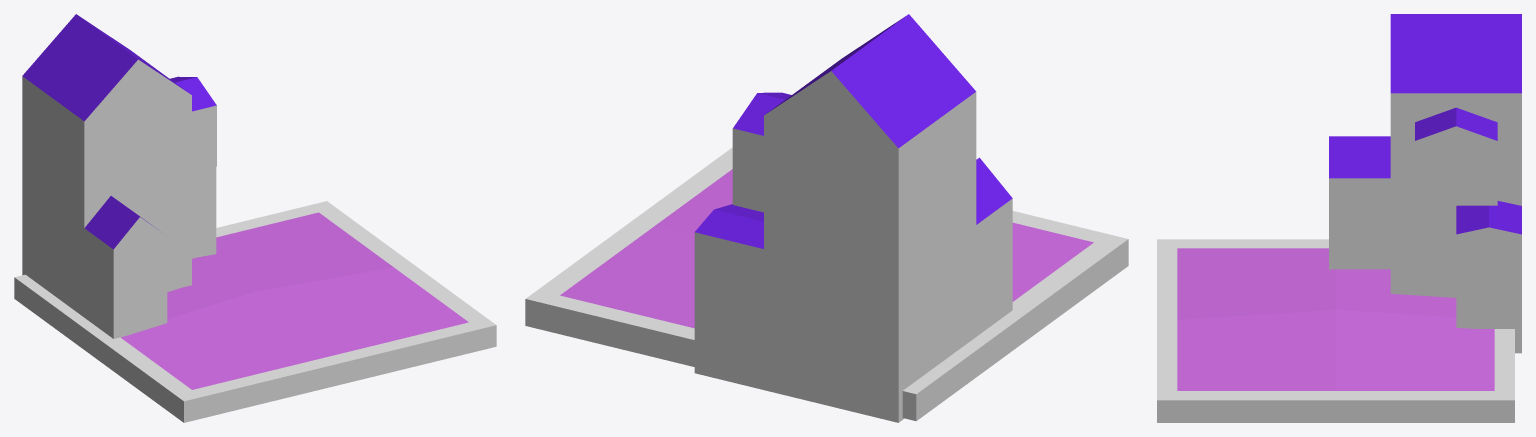
File: graveyard.fbx
3 renders of one model, left to right at view 1: azimuth 30°, elevation 25°; view 2: azimuth 150°, elevation 25°; view 3: azimuth 270°, elevation 25°, orthographic. The views are drawn at different scales.
Parts seen in each view (by area): view 1: Cube.001, Cube; view 2: Cube, Cube.001; view 3: Cube.001, Cube.
Boxes of the visible parts, <box> form: Cube.001: <box>14,201,496,422</box>; Cube: <box>22,14,216,338</box>; Cube: <box>694,14,1012,422</box>; Cube.001: <box>525,147,1128,421</box>; Cube.001: <box>1157,239,1514,422</box>; Cube: <box>1329,14,1521,353</box>.
Size of the model in its own units: 580 by 476 by 556.
